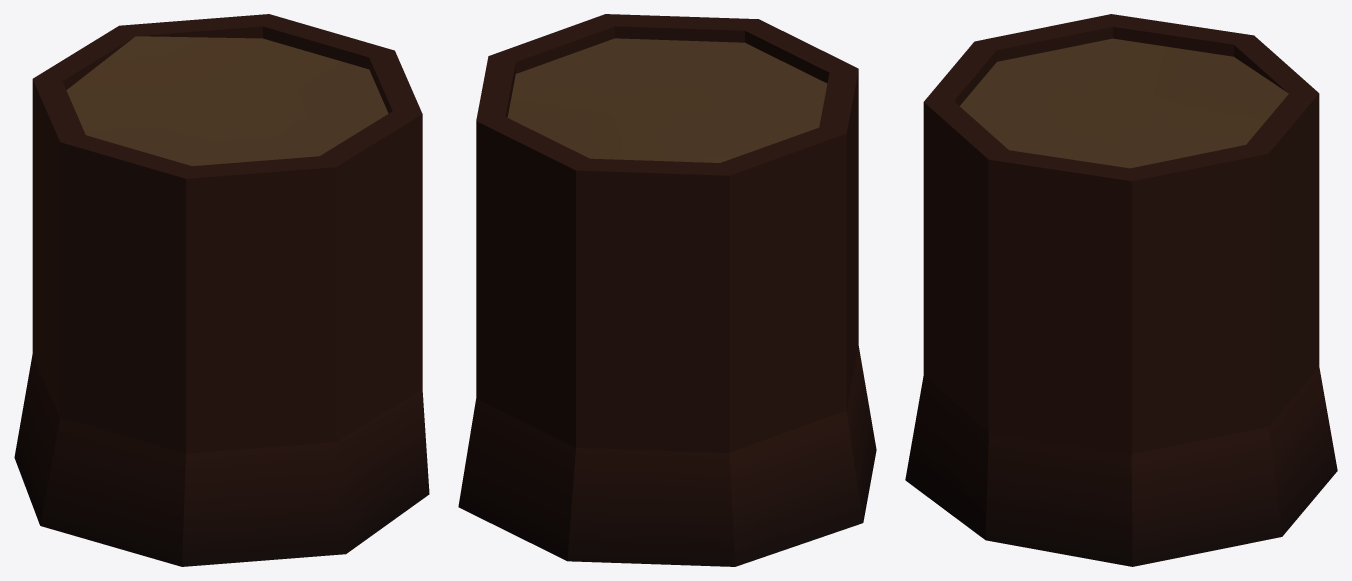
Rendered from PropsTree_Stump_v2.fbx.
The picture shows the model from 3 angles, left to right: view 1: azimuth 30°, elevation 25°; view 2: azimuth 150°, elevation 25°; view 3: azimuth 270°, elevation 25°; orthographic projection.
Parts seen in each view (by area): view 1: Tree_Stump_v2; view 2: Tree_Stump_v2; view 3: Tree_Stump_v2.
Boxes of the visible parts, left/top/right/bottom form: Tree_Stump_v2: left=14, top=14, right=429, bottom=566; Tree_Stump_v2: left=458, top=14, right=876, bottom=566; Tree_Stump_v2: left=905, top=14, right=1337, bottom=566.
Bounding box in the file's own units: 1.31 × 1.26 × 1.3.
